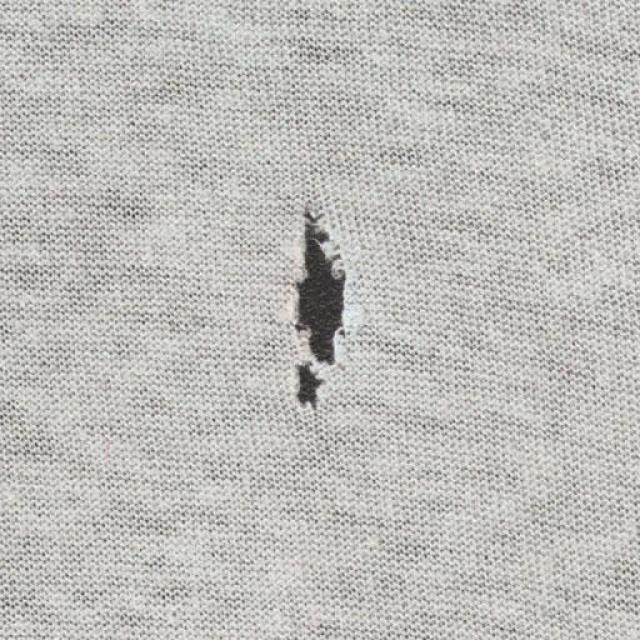Hole: (286, 198, 364, 409)
